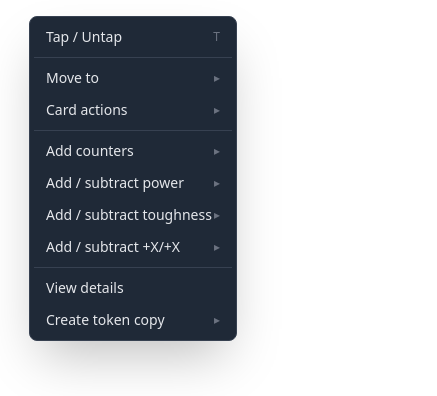
Test: Preservation: "Card actions" Items Match Current Behavior (Req 3.6) › "Card actions" submenu renders exactly: Flip / Transform, Morph face-down, Phase out, Flip 180°
# Open the "Card actions" submenu
Hover over the text "Card actions" at (133, 110), box [34,94,232,126]
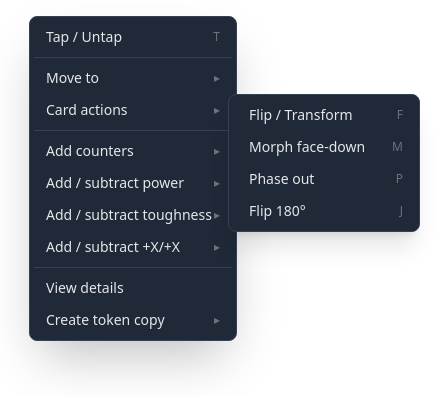
Expected: the text "Flip / Transform" is shown, [249,105,352,125]
Expected: the text "Morph face-down" is shown, [249,137,365,157]
Expected: the text "Phase out" is shown, [249,169,314,189]
